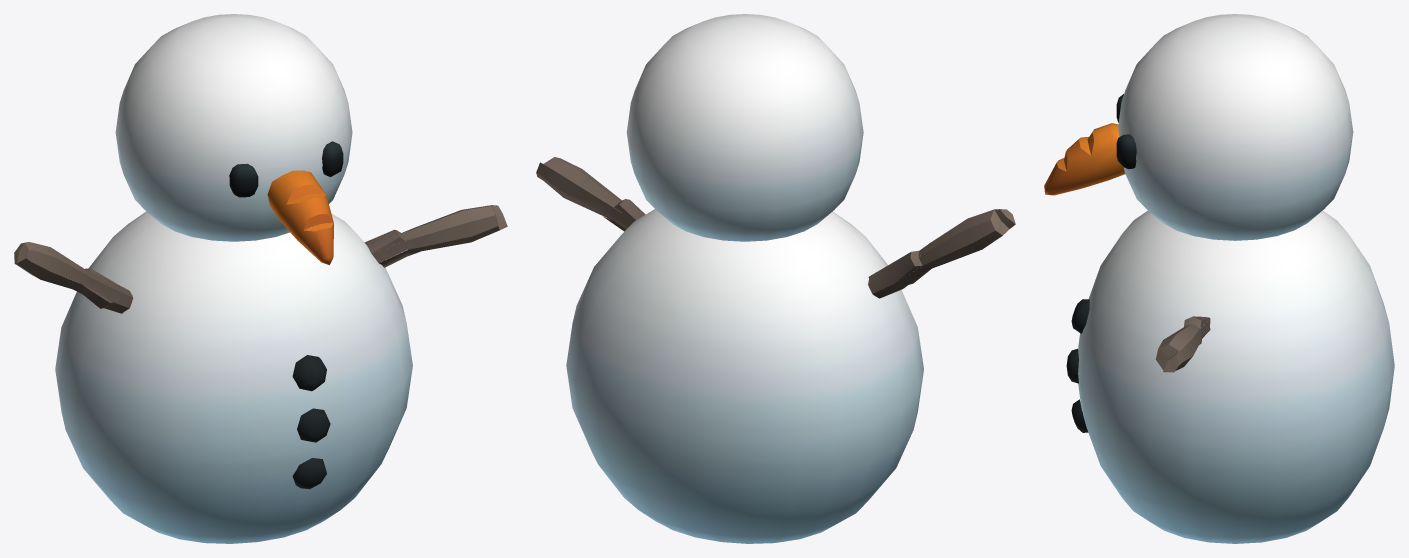
File: manusia-salju.glb
3 views of the same model, side by side, from view 1: azimuth 30°, elevation 25°; view 2: azimuth 150°, elevation 25°; view 3: azimuth 270°, elevation 25° (orthographic).
Visible parts, largest first — view 1: snowman_A; view 2: snowman_A; view 3: snowman_A.
Part boxes in pixels (x1,y1,x2,y2): snowman_A: (14, 14, 507, 543); snowman_A: (536, 14, 1015, 543); snowman_A: (1044, 14, 1394, 543).
Bounding box in the file's own units: 3.39 × 3.2 × 2.14.
1 material, 1 textured.
